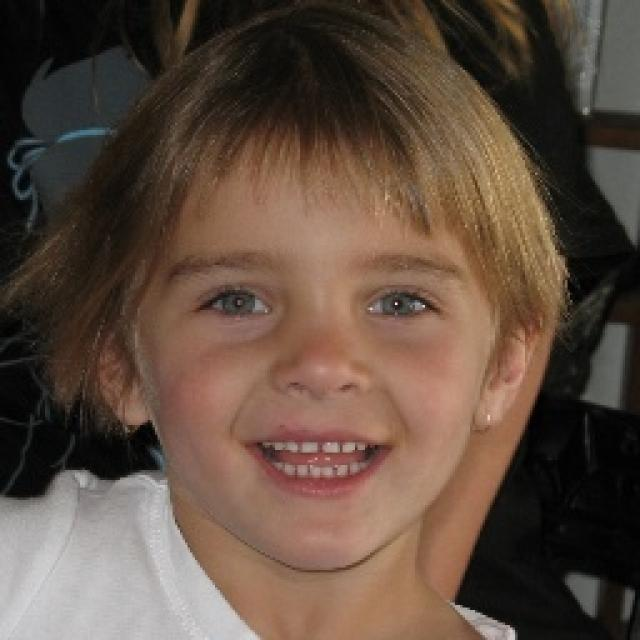earlobe: (474, 308, 542, 434), (82, 320, 150, 428)
